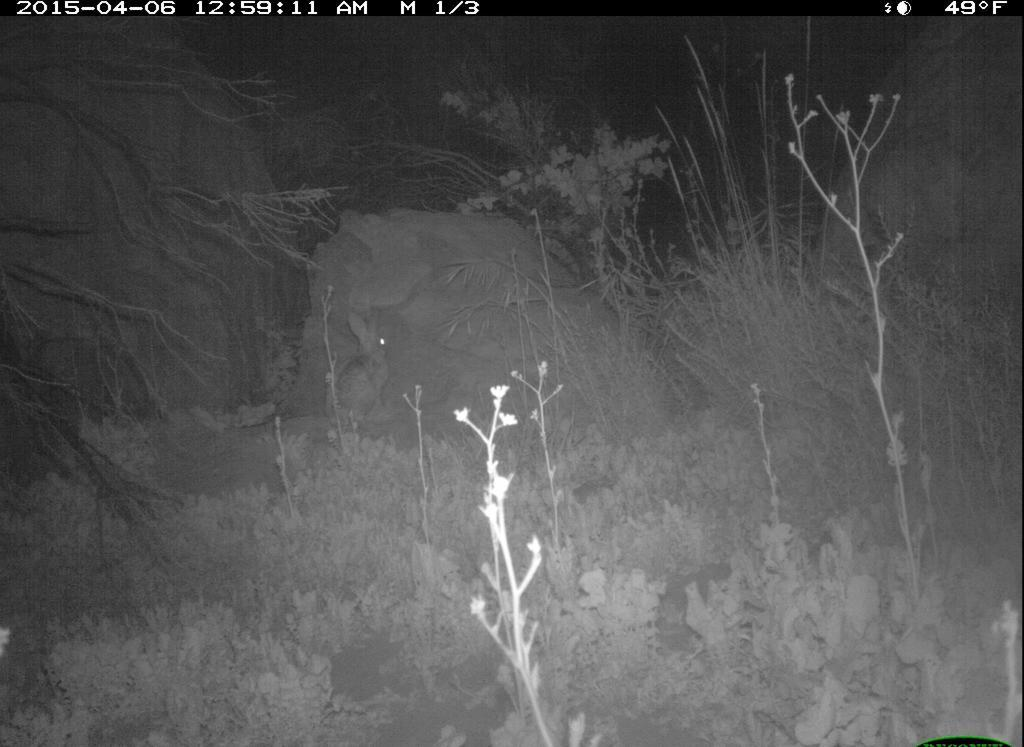rabbit: (323, 310, 401, 424)
